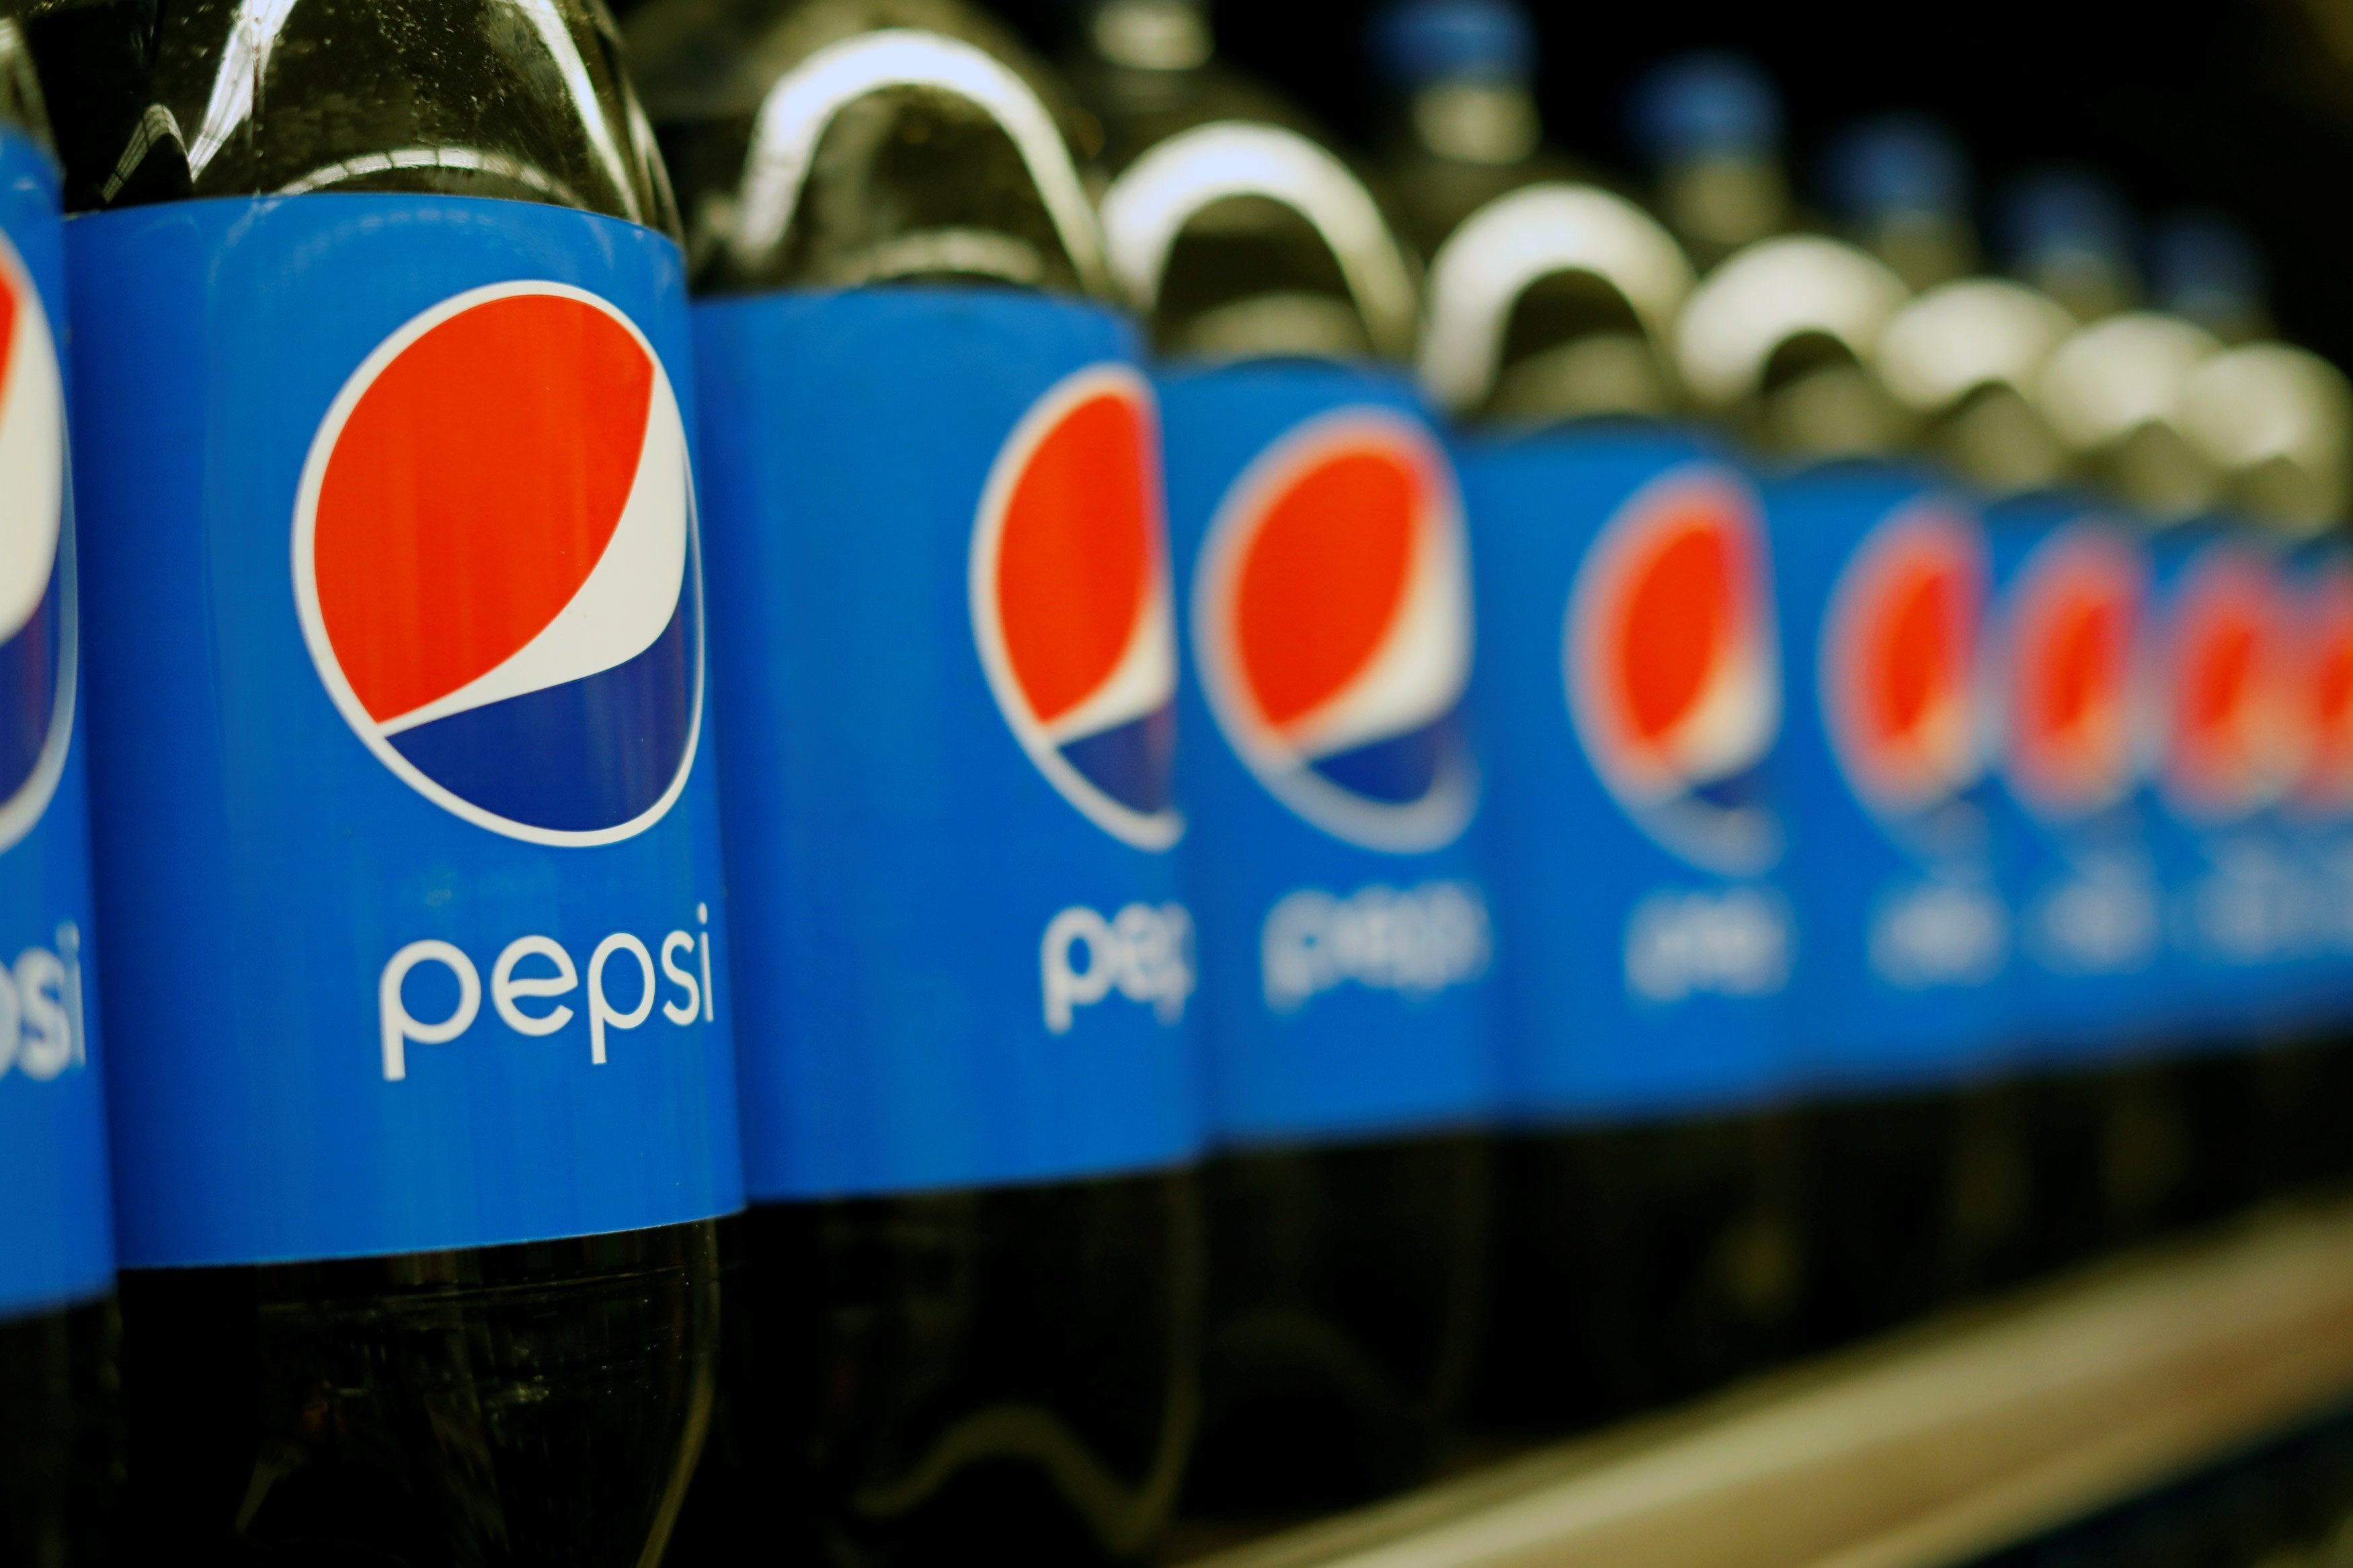pepsi: (275, 271, 706, 847), (275, 282, 706, 847), (1187, 401, 1469, 856), (947, 360, 1189, 840), (1541, 446, 1777, 870), (1817, 474, 1989, 864)
